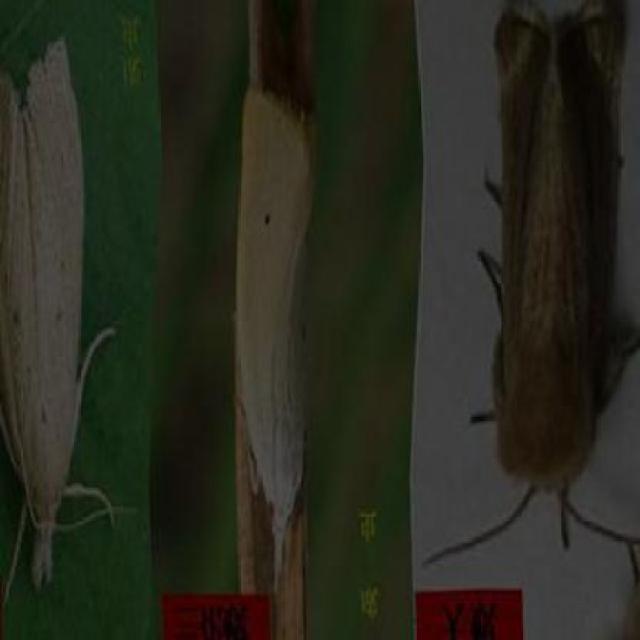stem-borer: (427, 0, 640, 566), (0, 32, 102, 597), (231, 76, 318, 590)
